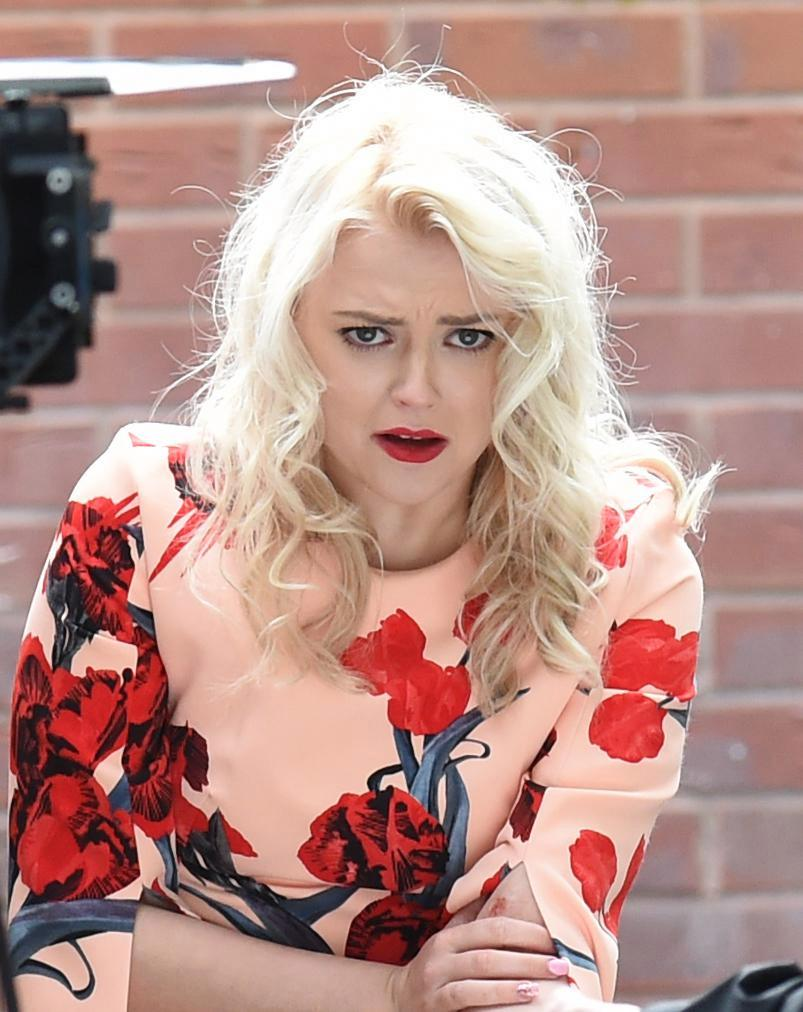not_cigarette: (3, 54, 301, 88)
